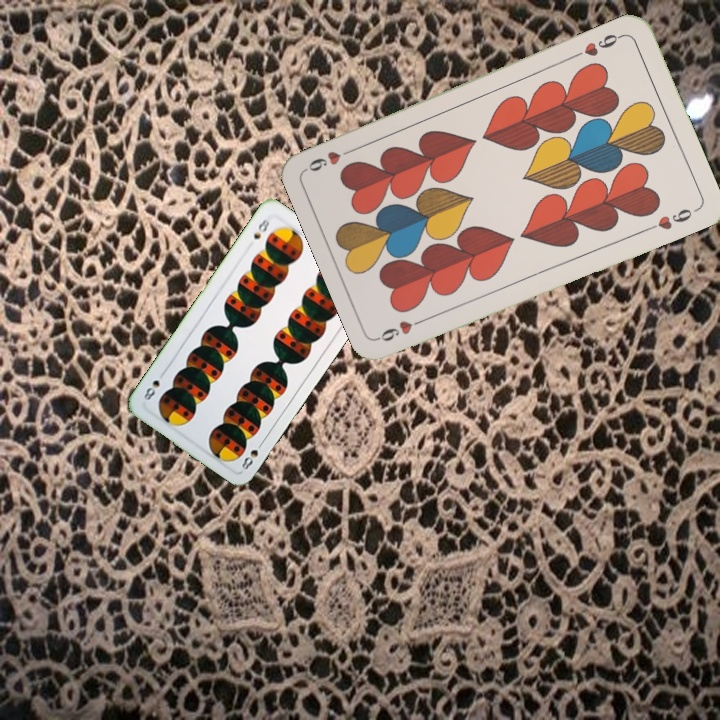H9: (375, 313, 431, 344), (580, 29, 627, 59)
S8: (237, 437, 267, 472), (249, 214, 272, 242)
